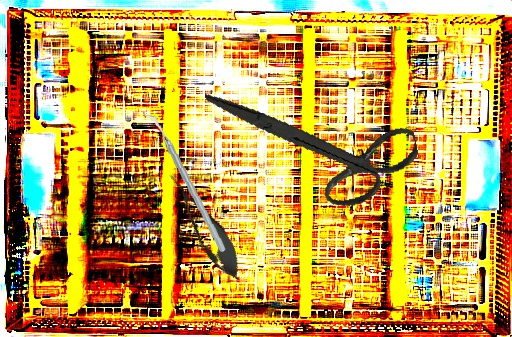Chopper: (142, 107, 227, 257)
Iris Scissors: (204, 53, 426, 231)
Micro Scissor: (157, 165, 253, 288)
